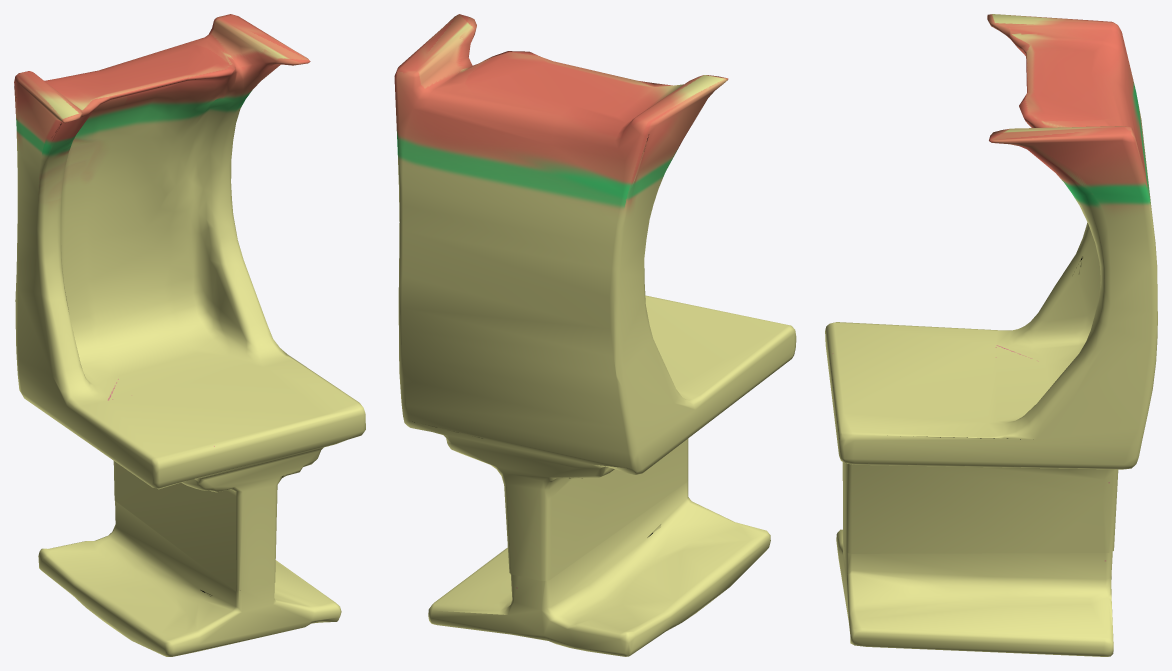
Rendered from sddaa.glb.
The picture shows the model from 3 angles, left to right: view 1: azimuth 30°, elevation 25°; view 2: azimuth 150°, elevation 25°; view 3: azimuth 270°, elevation 25°; orthographic projection. The views are drawn at different scales.
Visible parts, largest first — view 1: material.020, material.009; view 2: material.020, material.009; view 3: material.020, material.009.
Part boxes in pixels (bbox=[...]): material.020: bbox=[14, 14, 365, 592]; material.009: bbox=[38, 501, 341, 656]; material.020: bbox=[394, 14, 796, 580]; material.009: bbox=[428, 479, 770, 656]; material.020: bbox=[825, 14, 1157, 553]; material.009: bbox=[836, 529, 1113, 656].
Size of the model in its own units: 0.6421 by 1.27 by 0.7141.
Materials: 2 (2 with a texture image).
